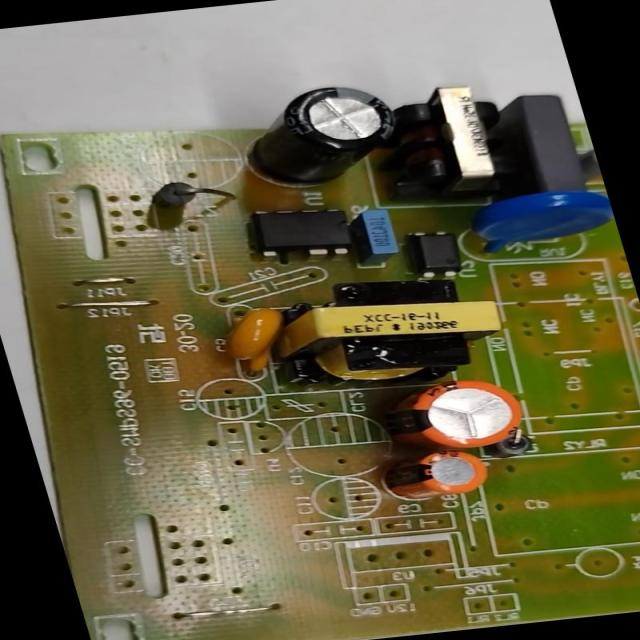Cap1: (386, 375, 530, 452)
Cap2: (383, 448, 493, 501)
Cap3: (231, 80, 411, 190)
MOSFET: (246, 204, 355, 262)
Mov: (469, 187, 618, 246)
Resistor: (578, 147, 602, 181)
Transformer: (280, 273, 514, 389), (392, 81, 520, 188)
